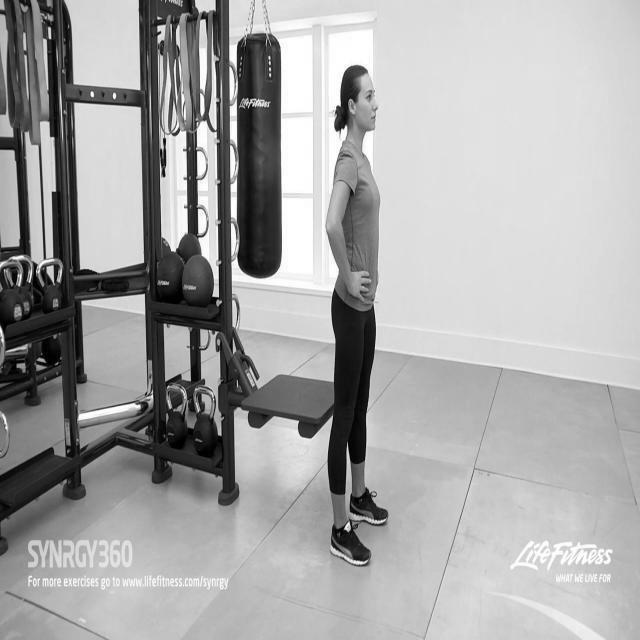person: (304, 62, 446, 568)
